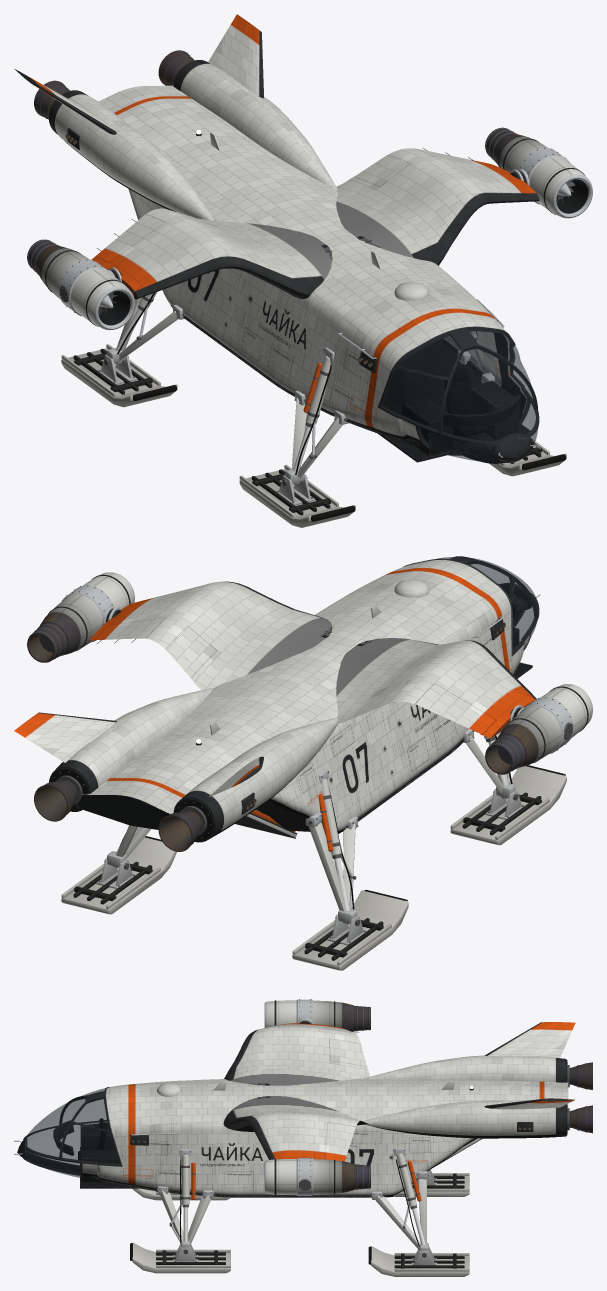
Rendered from chaika_ext.glb.
The picture shows the model from 3 angles, top to bottom: view 1: azimuth 30°, elevation 25°; view 2: azimuth 150°, elevation 25°; view 3: azimuth 270°, elevation 25°; orthographic projection. The views are drawn at different scales.
Parts seen in each view (by area): view 1: ext_hull, ext_wing_L, ext_canopy_glass, ext_wing_R, ext_pod_R, ext_cockpit_proxy, ext_gear_front_R, ext_pod_L, ext_gear_rear_R, ext_canopy_frame, ext_nacelle_R, ext_nacelle_L (+7 smaller); view 2: ext_hull, ext_wing_L, ext_wing_R, ext_gear_rear_R, ext_pod_R, ext_gear_front_R, ext_pod_L, ext_gear_rear_L, ext_nacelle_R, ext_nacelle_L, ext_fin_L, ext_tail_base (+13 smaller); view 3: ext_hull, ext_wing_R, ext_wing_L, ext_pod_L, ext_canopy_glass, ext_gear_rear_L, ext_gear_front_L, ext_pod_R, ext_nacelle_L, ext_cockpit_proxy, ext_fin_R, ext_nacelle_R (+11 smaller).
Part boxes in pixels (box(x1,y1,x2,y2)): ext_hull: box(99, 85, 531, 462); ext_wing_L: box(336, 148, 539, 265); ext_canopy_glass: box(381, 329, 538, 462); ext_wing_R: box(91, 208, 332, 299); ext_pod_R: box(49, 90, 213, 220); ext_cockpit_proxy: box(378, 332, 529, 462); ext_gear_front_R: box(239, 347, 355, 527); ext_pod_L: box(173, 60, 337, 190); ext_gear_rear_R: box(61, 292, 184, 407); ext_canopy_frame: box(377, 326, 539, 463); ext_nacelle_R: box(36, 246, 134, 330); ext_nacelle_L: box(494, 134, 592, 218); ext_hull: box(82, 560, 529, 831); ext_wing_L: box(89, 581, 332, 690); ext_wing_R: box(336, 638, 536, 738); ext_gear_rear_R: box(292, 769, 408, 970); ext_pod_R: box(173, 718, 337, 842); ext_gear_front_R: box(450, 729, 566, 845); ext_pod_L: box(49, 688, 213, 811); ext_gear_rear_L: box(61, 825, 176, 914); ext_nacelle_R: box(497, 684, 592, 767); ext_nacelle_L: box(39, 572, 134, 655); ext_fin_L: box(14, 712, 116, 762); ext_tail_base: box(75, 794, 170, 829); ext_hull: box(17, 1078, 568, 1195); ext_wing_R: box(224, 1023, 370, 1085); ext_wing_L: box(223, 1096, 369, 1161); ext_pod_L: box(363, 1100, 566, 1138); ext_canopy_glass: box(25, 1088, 119, 1177); ext_gear_rear_L: box(368, 1148, 469, 1276); ext_gear_front_L: box(130, 1149, 230, 1273); ext_pod_R: box(364, 1055, 566, 1082); ext_nacelle_L: box(264, 1159, 354, 1194); ext_cockpit_proxy: box(27, 1118, 138, 1188); ext_fin_R: box(484, 1022, 575, 1058); ext_nacelle_R: box(264, 1000, 354, 1031).
Bounding box in the file's own units: 10.08 × 4.53 × 14.08.
Materials: 6 (4 with a texture image).
